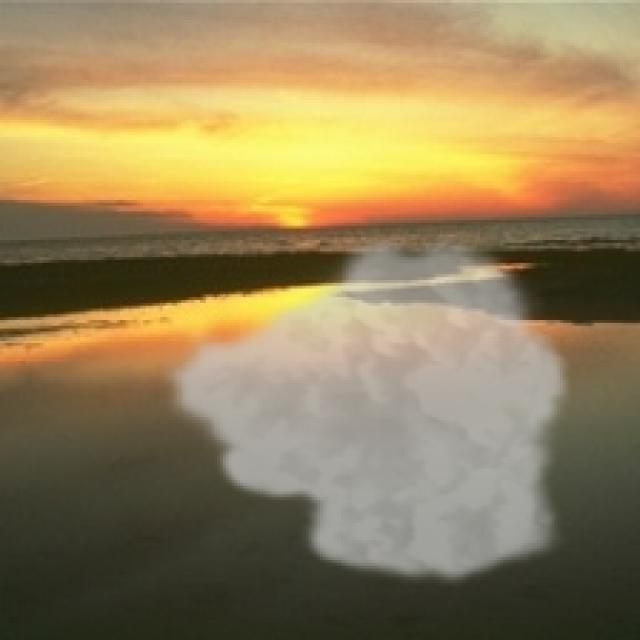smoke: (160, 228, 574, 588)
